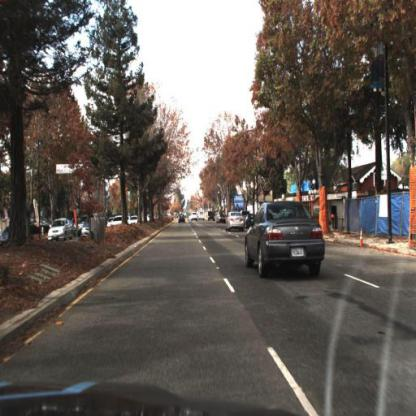car: (242, 198, 327, 282), (48, 216, 76, 242), (78, 216, 102, 239), (226, 208, 244, 236), (107, 214, 125, 230), (128, 213, 140, 231), (187, 209, 199, 226), (176, 208, 186, 226)
